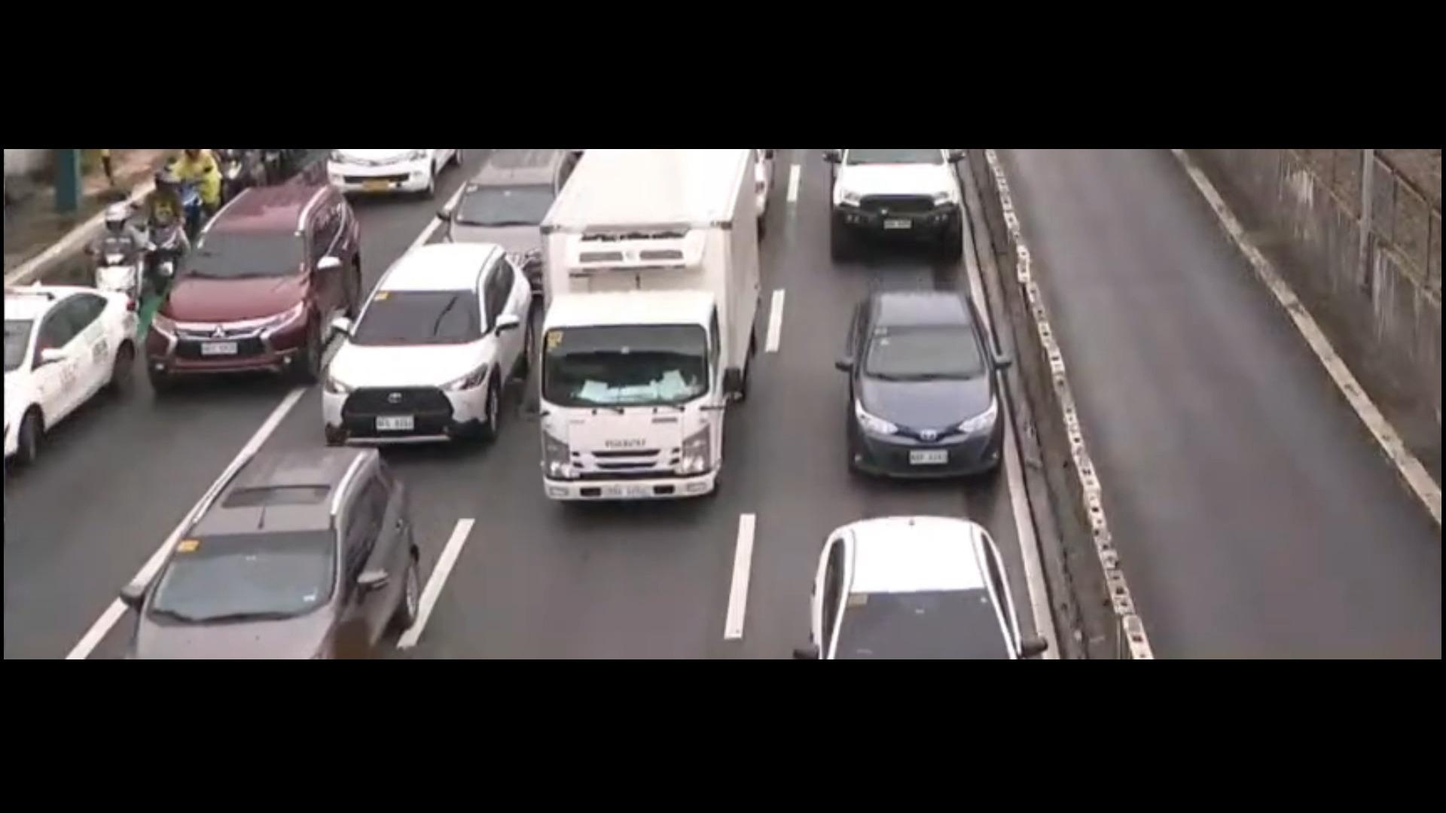Motorcycle: (87, 194, 148, 329), (134, 160, 187, 286)
SUV: (122, 445, 408, 655), (318, 242, 536, 446), (147, 186, 358, 391)
Sedan: (796, 507, 1048, 661), (835, 291, 1013, 486), (4, 281, 130, 479)
Truck: (537, 153, 766, 515)
